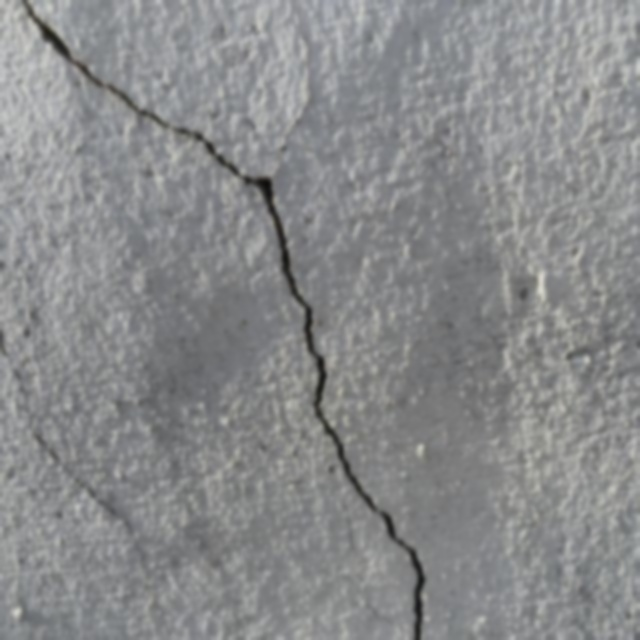SurfaceCrack: (1, 0, 499, 639)
